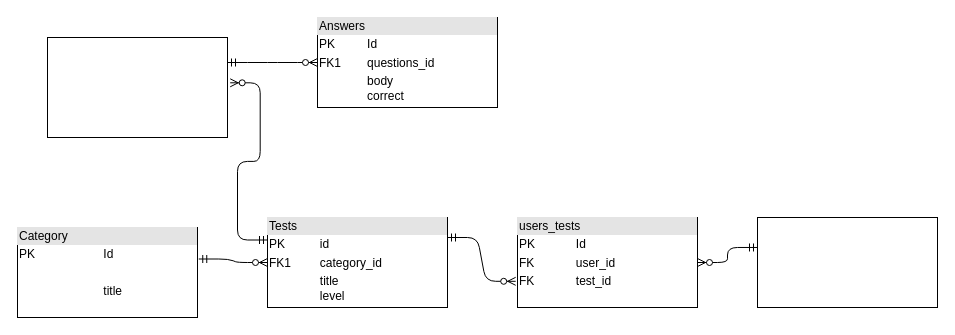
Some shapes in this 955 by 335 pixel diagram are drawn without their labels. The box of each missing label's shape, as (x1, y1, x2, y2) in pixels:
Questions PK Id FK1 test_id body: (46, 36, 228, 138)
Users PK Id name email: (756, 216, 938, 308)
